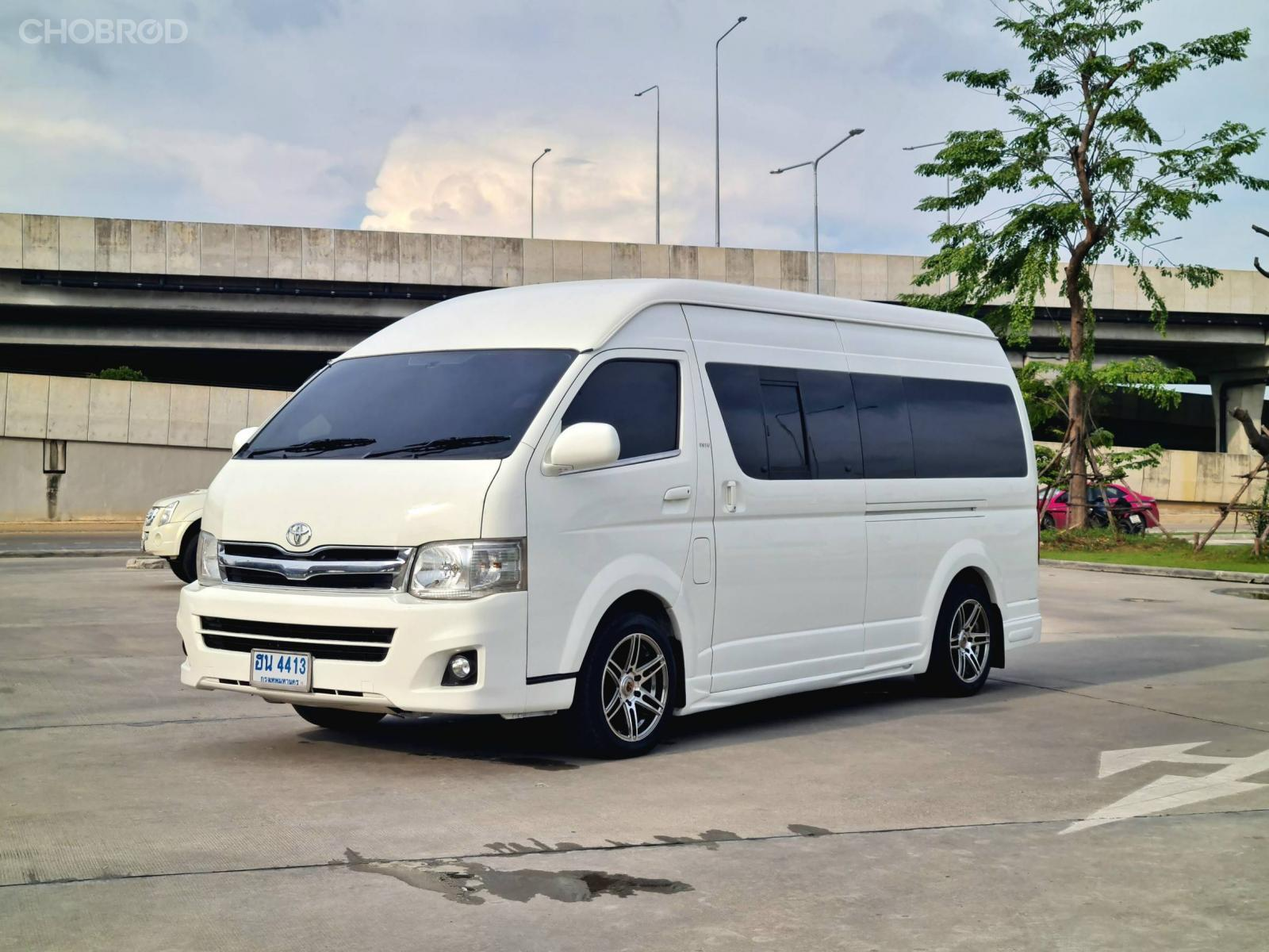license-plate: (252, 646, 317, 696)
